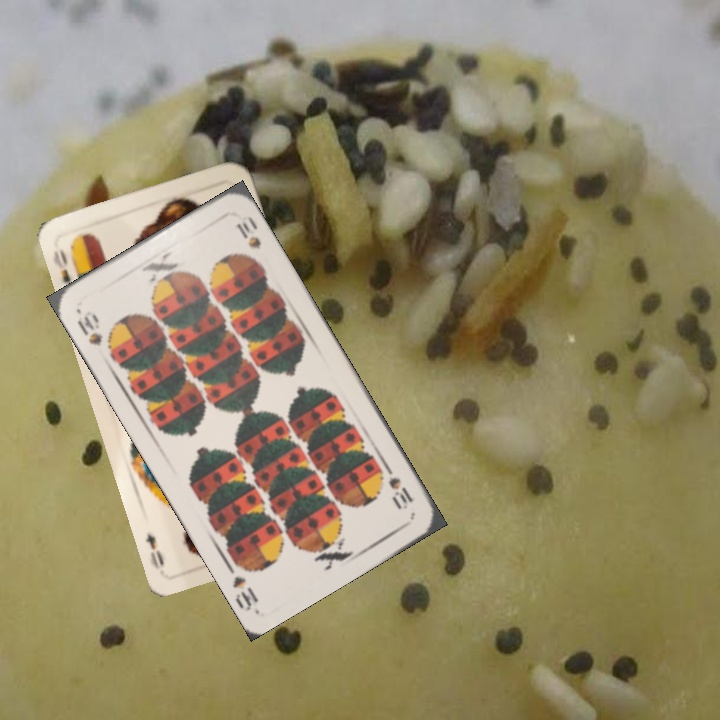EO: (49, 244, 74, 291)
S10: (381, 460, 416, 512), (73, 310, 106, 349)
